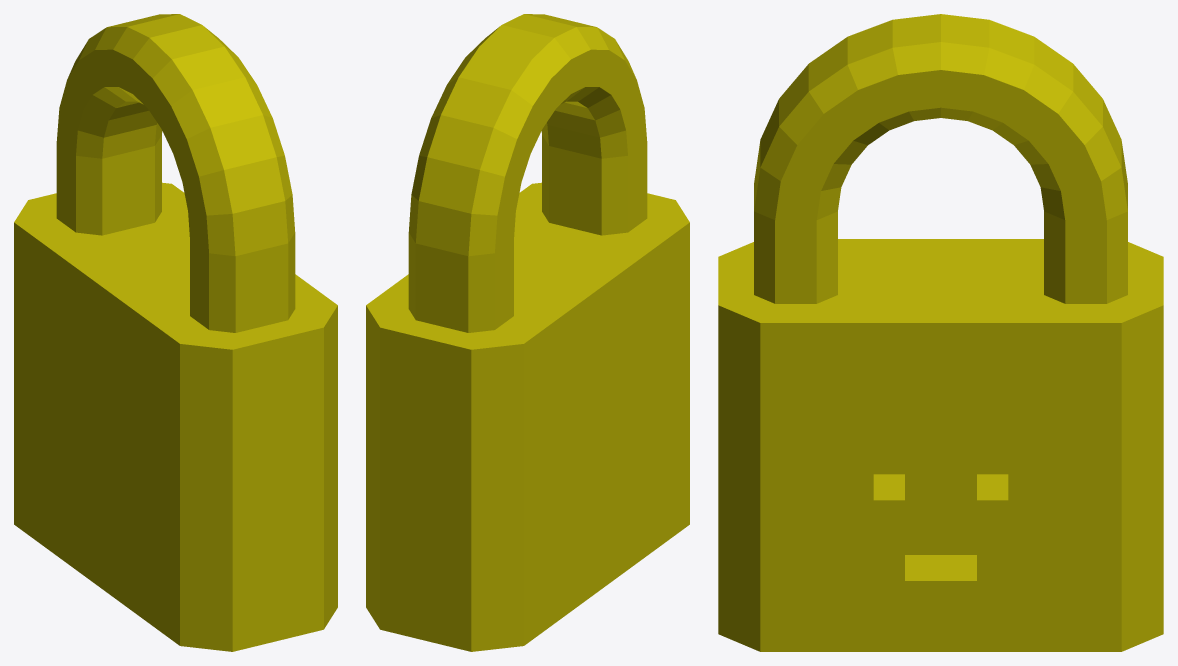
File: lockIngame.fbx
3 views of the same model, side by side, from view 1: azimuth 30°, elevation 25°; view 2: azimuth 150°, elevation 25°; view 3: azimuth 270°, elevation 25° (orthographic). The views are drawn at different scales.
Visible parts, largest first — view 1: Cube; view 2: Cube; view 3: Cube.
Boxes of the visible parts, x1,y1,x2,y2 form: Cube: (14, 14, 337, 651); Cube: (366, 14, 689, 651); Cube: (718, 14, 1163, 651).
Bounding box in the file's own units: 0.0982 × 0.3175 × 0.2201.
